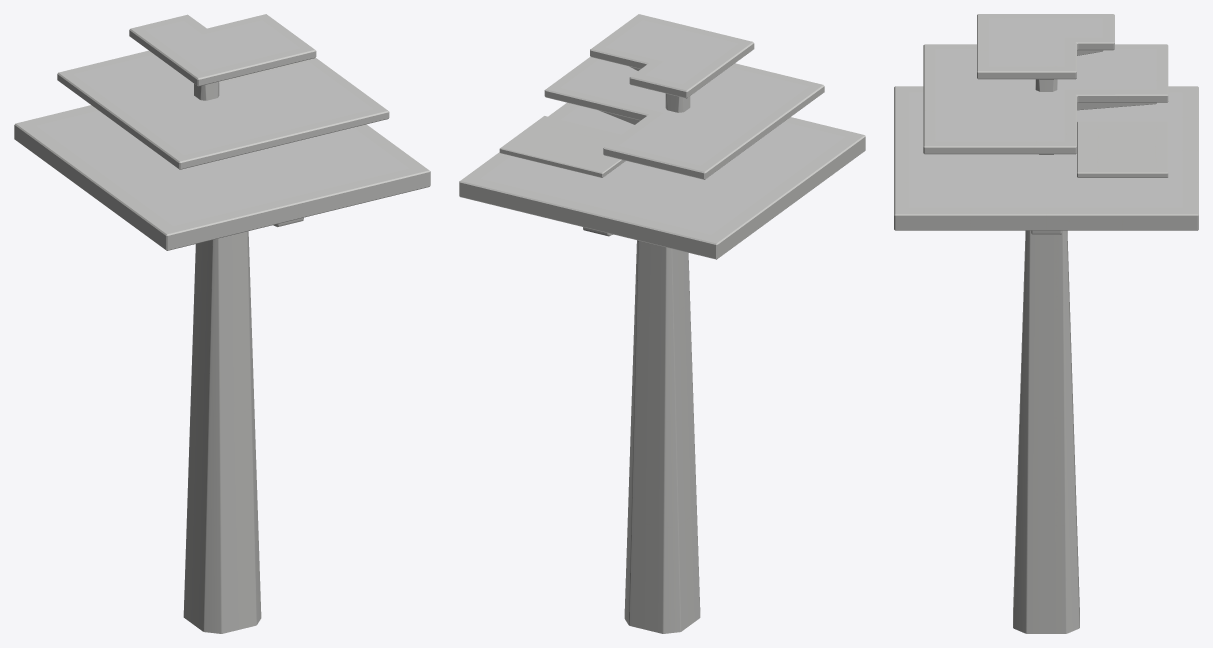
File: PlatformStack2.fbx
3 renders of one model, left to right at view 1: azimuth 30°, elevation 25°; view 2: azimuth 150°, elevation 25°; view 3: azimuth 270°, elevation 25°, orthographic. The views are drawn at different scales.
Parts seen in each view (by area): view 1: PlatformStack2, PlatformSmall, PlatformTop; view 2: PlatformStack2, PlatformSmall, PlatformTop, StepSmall; view 3: PlatformStack2, PlatformSmall, PlatformTop, StepSmall.
Part boxes in pixels (x1,y1,x2,y2): PlatformStack2: [14, 105, 430, 633]; PlatformSmall: [57, 50, 389, 169]; PlatformTop: [129, 14, 316, 100]; PlatformStack2: [459, 102, 865, 633]; PlatformSmall: [544, 57, 824, 179]; PlatformTop: [590, 14, 754, 112]; StepSmall: [499, 116, 625, 177]; PlatformStack2: [894, 86, 1198, 633]; PlatformSmall: [923, 44, 1168, 154]; PlatformTop: [977, 14, 1114, 91]; StepSmall: [1077, 121, 1168, 177].
Bounding box in the file's own units: 500 × 1045 × 500.
